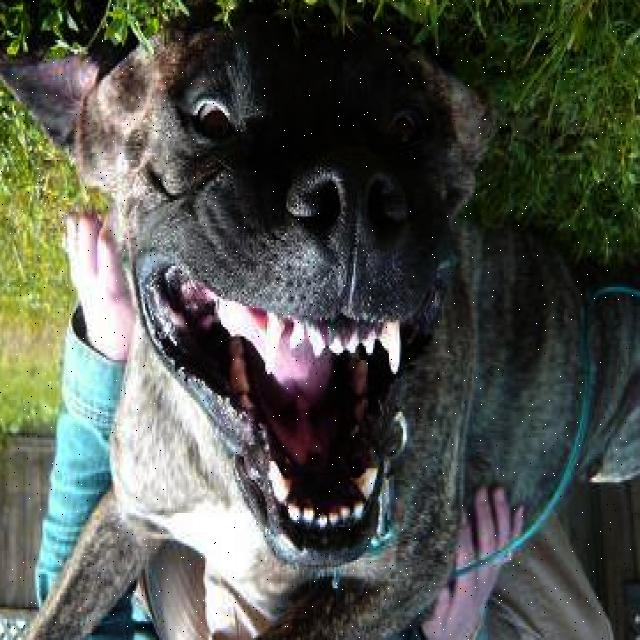Dog: (95, 0, 474, 584)
